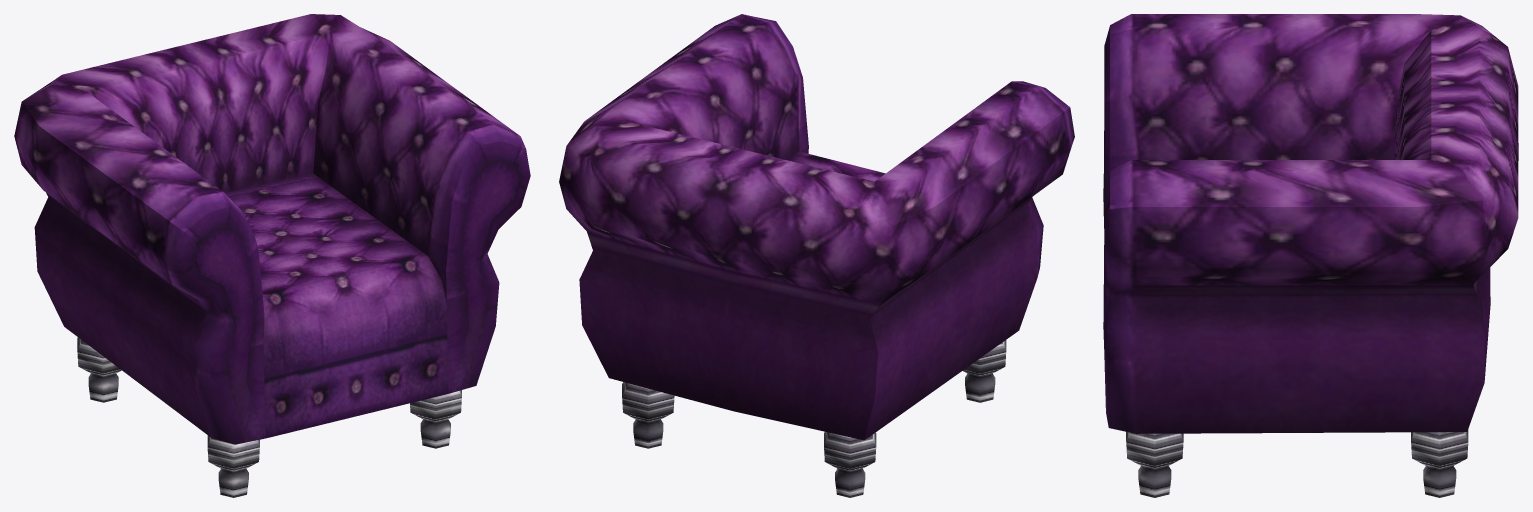
The model's file is furni_0200723.FBX.
3 renders of one model, left to right at view 1: azimuth 30°, elevation 25°; view 2: azimuth 150°, elevation 25°; view 3: azimuth 270°, elevation 25°, orthographic. The views are drawn at different scales.
Parts seen in each view (by area): view 1: furni_0200723; view 2: furni_0200723; view 3: furni_0200723.
Part boxes in pixels (<box>): furni_0200723: <box>14,14,530,497</box>; furni_0200723: <box>559,14,1074,497</box>; furni_0200723: <box>1103,14,1518,497</box>.
Bounding box in the file's own units: 78.35 × 64.79 × 70.91.
1 material, 1 textured.
